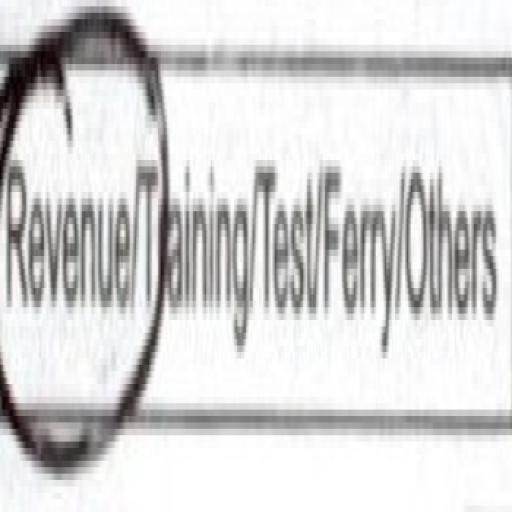check: (0, 0, 133, 486)
